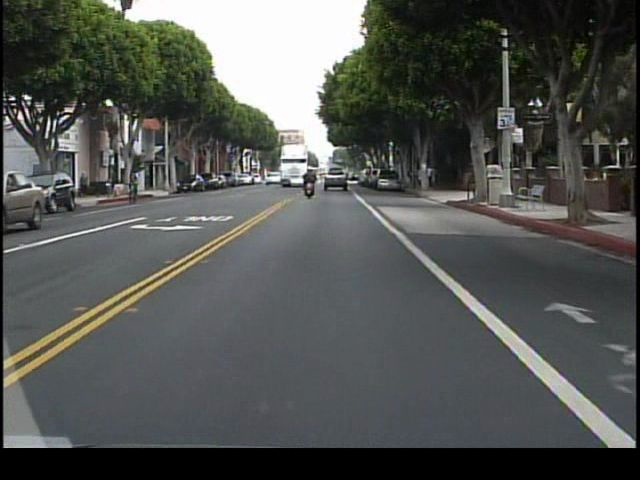person: (125, 165, 145, 203), (304, 163, 322, 204), (413, 165, 424, 192), (432, 162, 441, 189), (428, 165, 434, 188)
